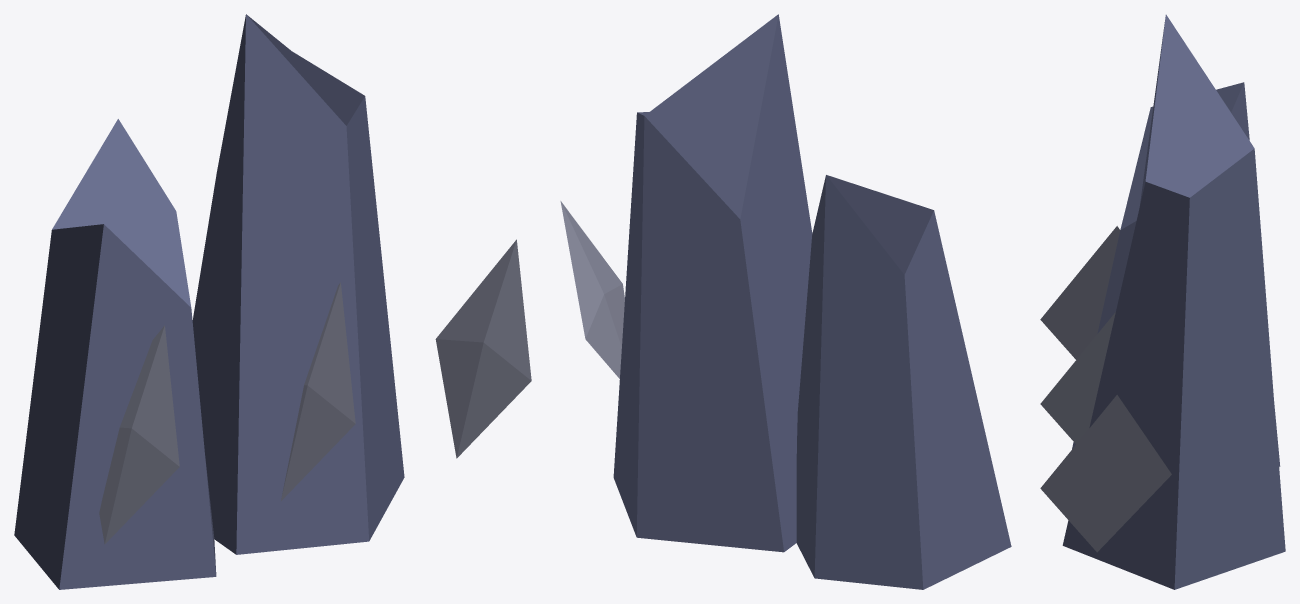
The model's file is map-boundaries-v5__highland_01.glb.
The picture shows the model from 3 angles, left to right: view 1: azimuth 30°, elevation 25°; view 2: azimuth 150°, elevation 25°; view 3: azimuth 270°, elevation 25°; orthographic projection.
Parts seen in each view (by area): view 1: highland_01; view 2: highland_01; view 3: highland_01.
Boxes of the visible parts, bbox=[...] form: highland_01: bbox=[14, 14, 531, 589]; highland_01: bbox=[560, 14, 1011, 589]; highland_01: bbox=[1040, 14, 1285, 589].
Bounding box in the file's own units: 1.3 × 1.38 × 0.6144.
